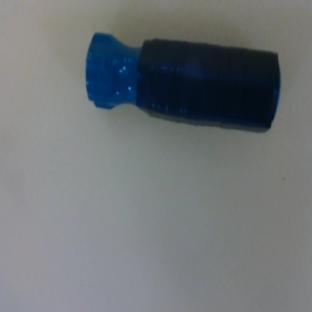part_2_bad: (80, 31, 284, 132)
